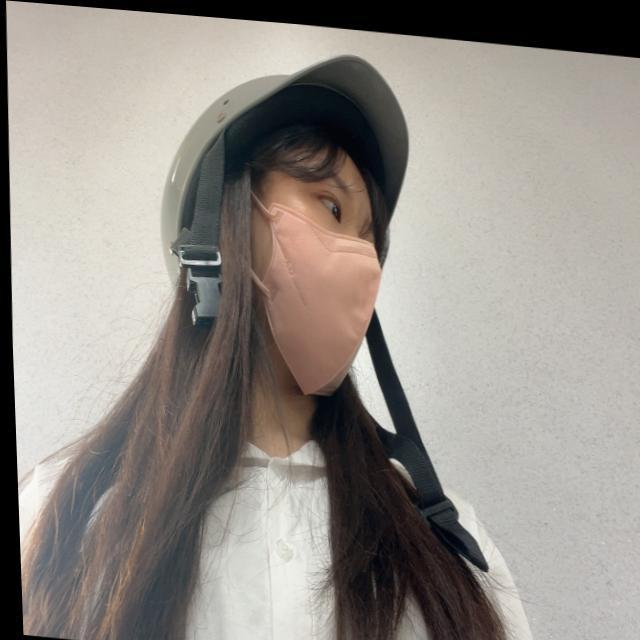Helmet: (140, 39, 430, 411)
